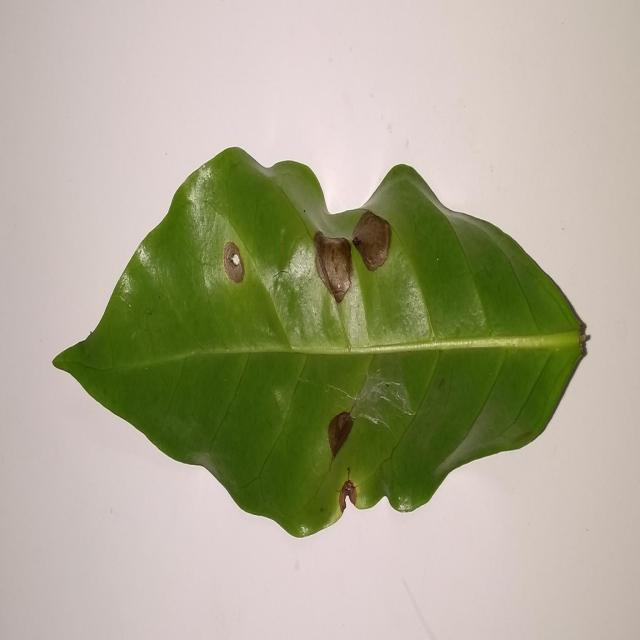Enfermedad-Antracnosis: (50, 148, 589, 541)
